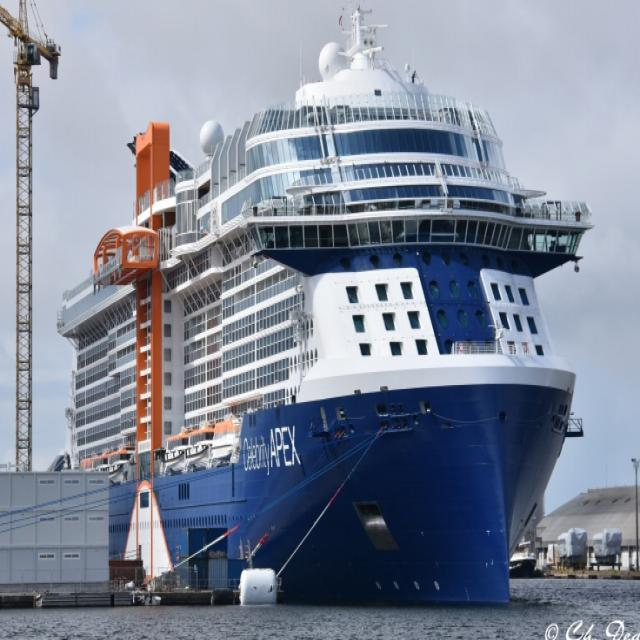cruises: (57, 3, 598, 626)
